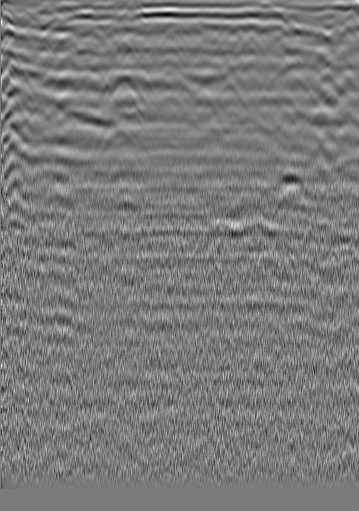가스: (106, 164, 139, 202)
상수: (23, 8, 43, 28)
오수: (318, 22, 338, 42)
우수: (160, 24, 180, 44)
